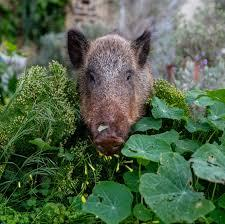wildboar: (65, 25, 156, 155)
